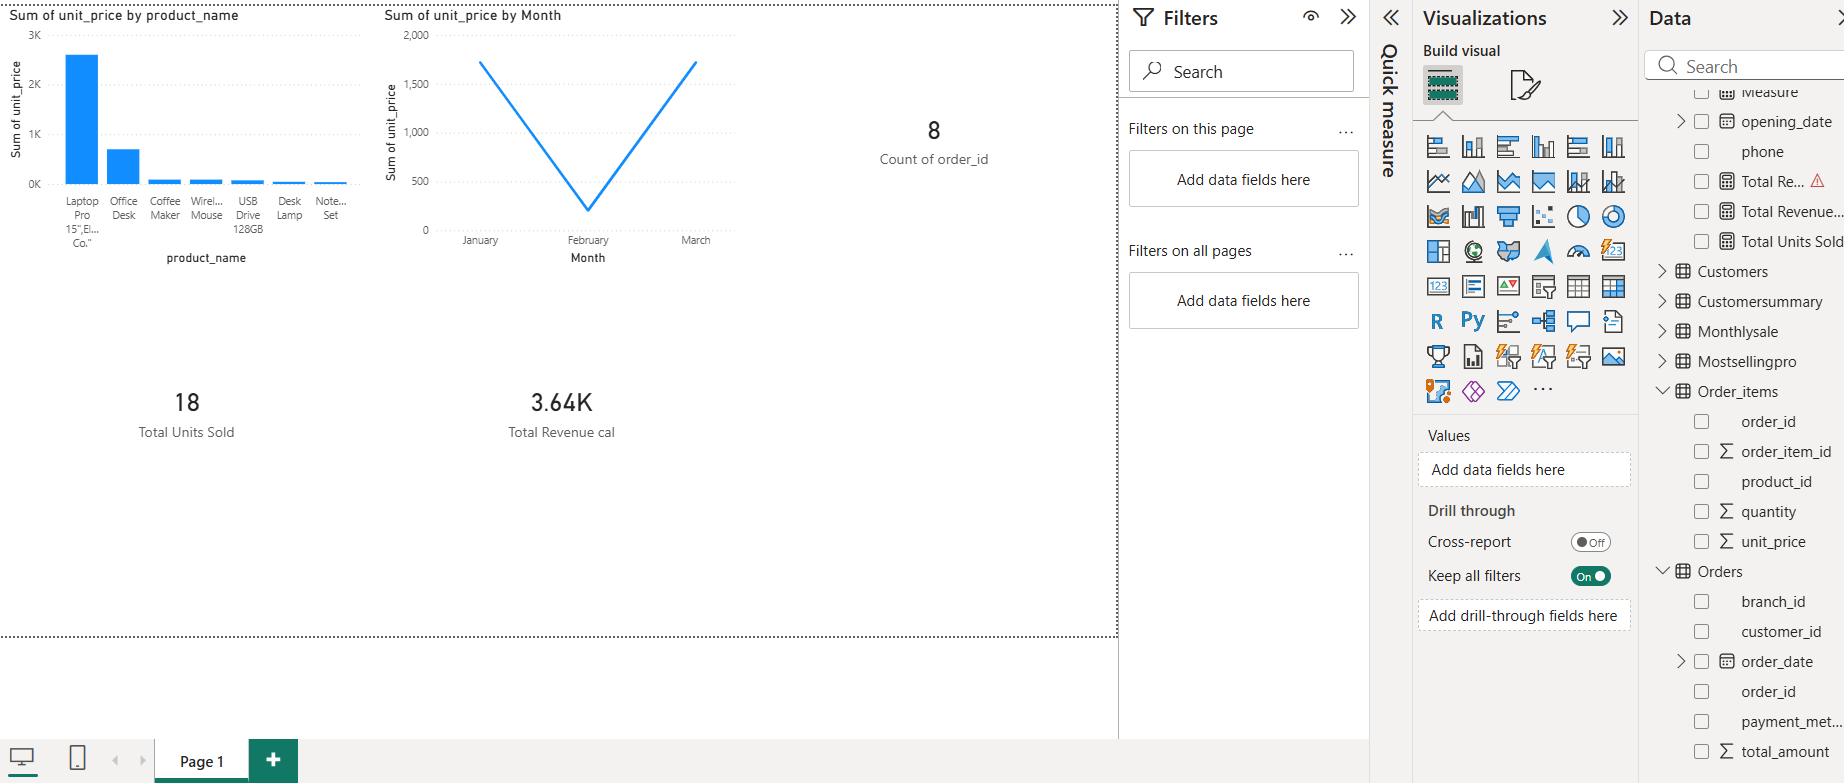

This screenshot's page, from the dashboard's own definition file:
{"tool":"powerbi","page":{"name":"Page 1","canvas":[1280,720],"ordinal":0},"visuals":[{"type":"clusteredColumnChart","fields":{"Y":["Sum(Order_items.unit_price)"],"Category":["Products.product_name"]},"box":[9.6,0,415.8,300.5],"z":0},{"type":"lineChart","fields":{"Category":["Orders.order_date.Variation.Date Hierarchy.Month","Orders.order_date.Variation.Date Hierarchy.Day"],"Y":["Sum(Order_items.unit_price)"]},"box":[438.4,0,415.8,300.5],"z":1000},{"type":"card","fields":{"Values":["Branches.Total Units Sold"]},"box":[10,311,416,301],"z":2000},{"type":"card","fields":{"Values":["Branches.Total Revenue cal"]},"box":[438,311,416,301],"z":3000},{"type":"card","fields":{"Values":["CountNonNull(Orders.order_id)"]},"box":[864,0,416,301],"z":4000}]}

Visuals, with their boxes on the page's 1280x720 design canvas (x1, y1, x2, y2). These are canvas units, not pixel positions in the 1844x783 screenshot, which may show the page scaled, cropped or inside an application window:
clusteredColumnChart - Sum(Order_items.unit_price) x Products.product_name: x1=10, y1=0, x2=425, y2=300
lineChart - Orders.order_date.Variation.Date Hierarchy.Month x Orders.order_date.Variation.Date Hierarchy.Day: x1=438, y1=0, x2=854, y2=300
card - Branches.Total Units Sold: x1=10, y1=311, x2=426, y2=612
card - Branches.Total Revenue cal: x1=438, y1=311, x2=854, y2=612
card - CountNonNull(Orders.order_id): x1=864, y1=0, x2=1280, y2=301
